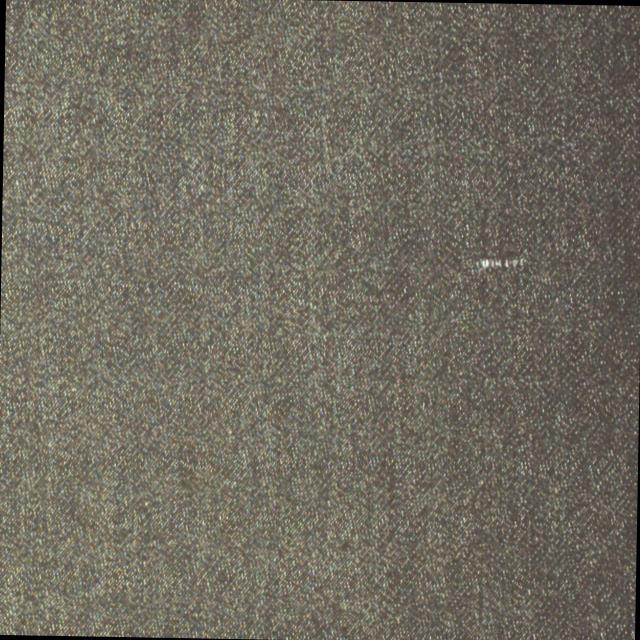Warp_Weft: (474, 256, 525, 270)
